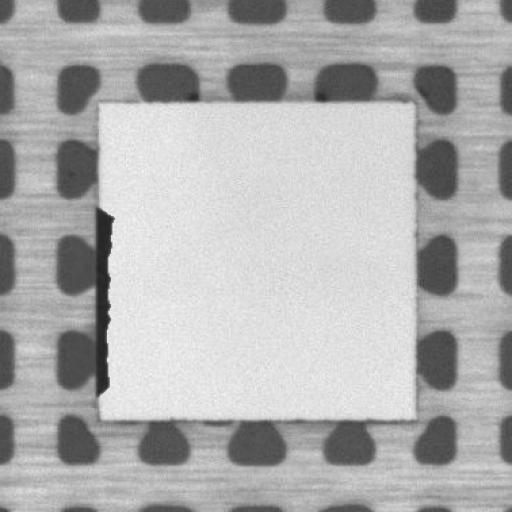DIE_BROKEN: (91, 203, 116, 402)
